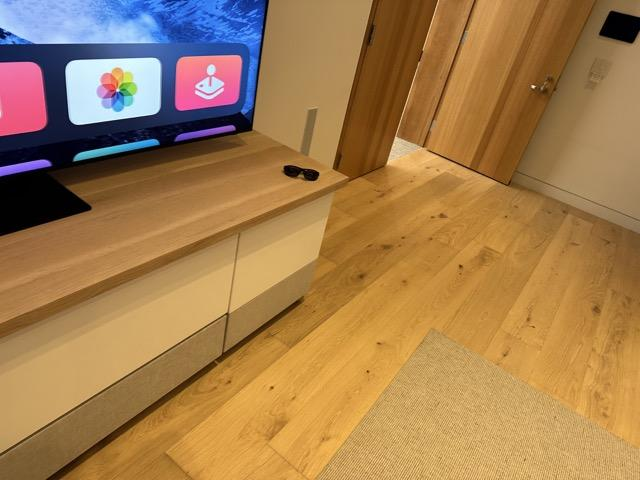Sunglasses: (283, 163, 321, 183)
